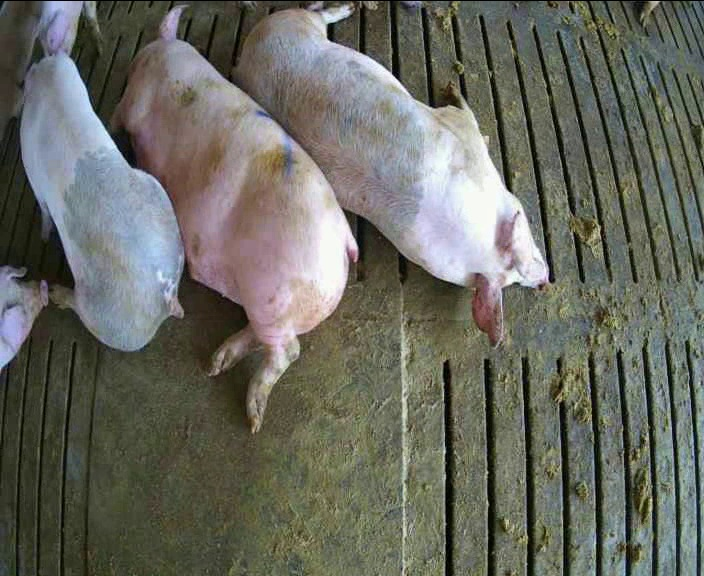pig: (233, 1, 547, 344), (112, 6, 357, 431), (20, 54, 183, 350)
